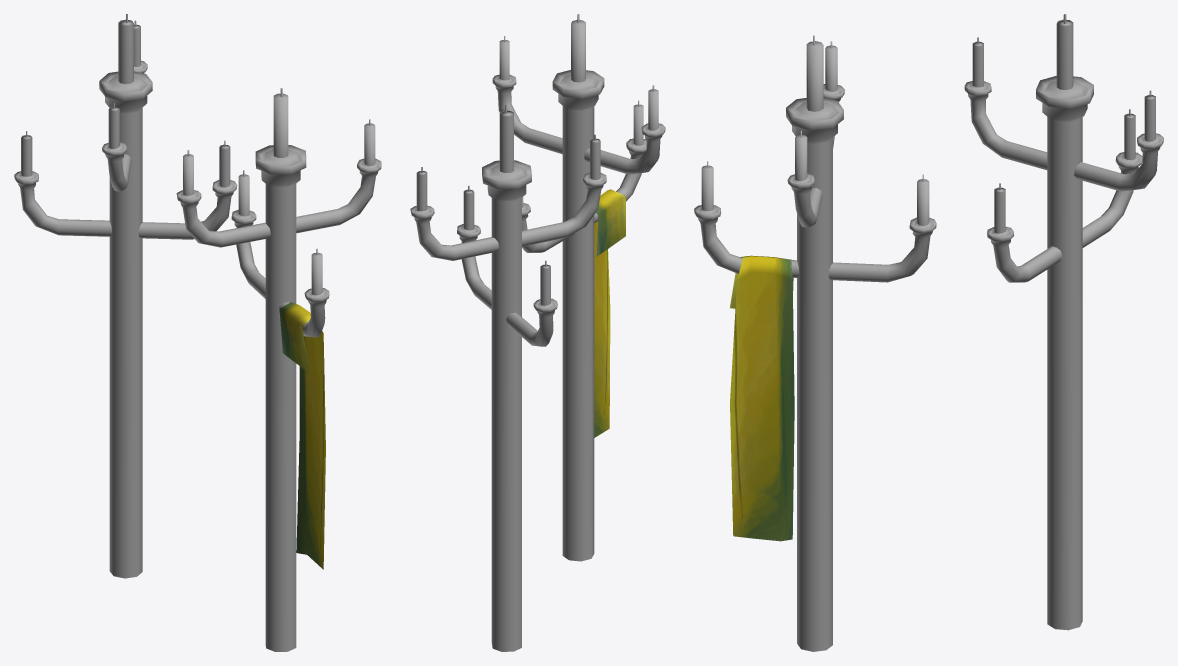
File: Candles.fbx
3 renders of one model, left to right at view 1: azimuth 30°, elevation 25°; view 2: azimuth 150°, elevation 25°; view 3: azimuth 270°, elevation 25°, orthographic. The views are drawn at different scales.
Parts seen in each view (by area): view 1: polySurface353 (×2), Banner_Green1, polySurface354 (×2); view 2: polySurface353 (×2), polySurface354 (×2), Banner_Green1; view 3: polySurface353 (×2), Banner_Green1, polySurface354 (×2).
Boxes of the visible parts, x1,y1,x2,y2 form: polySurface353 (×2): [14, 60, 381, 651]; Banner_Green1: [279, 302, 325, 569]; polySurface354 (×2): [21, 19, 375, 295]; polySurface353 (×2): [410, 70, 665, 651]; polySurface354 (×2): [416, 20, 658, 305]; Banner_Green1: [594, 189, 625, 437]; polySurface353 (×2): [694, 76, 1163, 651]; Banner_Green1: [730, 255, 794, 541]; polySurface354 (×2): [701, 19, 1155, 233].
Bounding box in the file's own units: 1.09 × 2.7 × 1.89.
